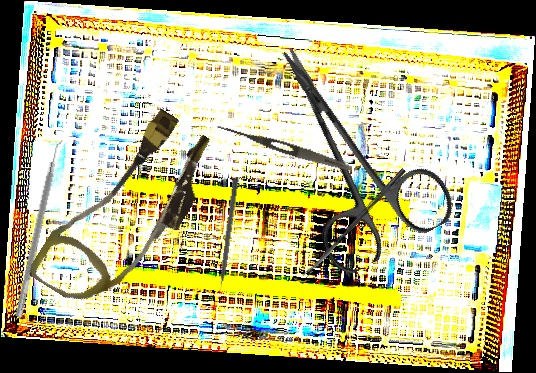Cannula: (26, 94, 227, 329)
Dressing Forceps: (215, 121, 354, 175)
Iris Scissors: (231, 15, 462, 280)
Pusher: (215, 177, 239, 300)
Spatula Surgical: (14, 137, 68, 320)
Surgical Spoon: (302, 167, 406, 279)
